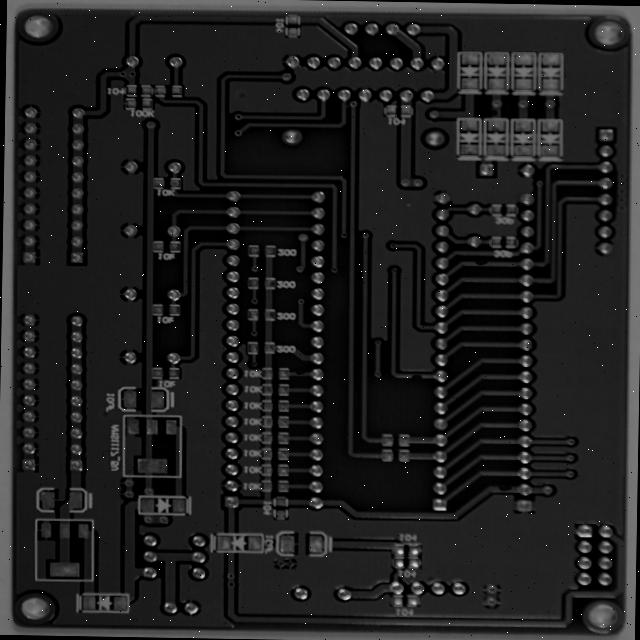mouse_bite: (445, 222, 471, 237), (372, 346, 396, 359), (473, 469, 496, 481), (464, 58, 481, 73), (241, 345, 260, 356)
